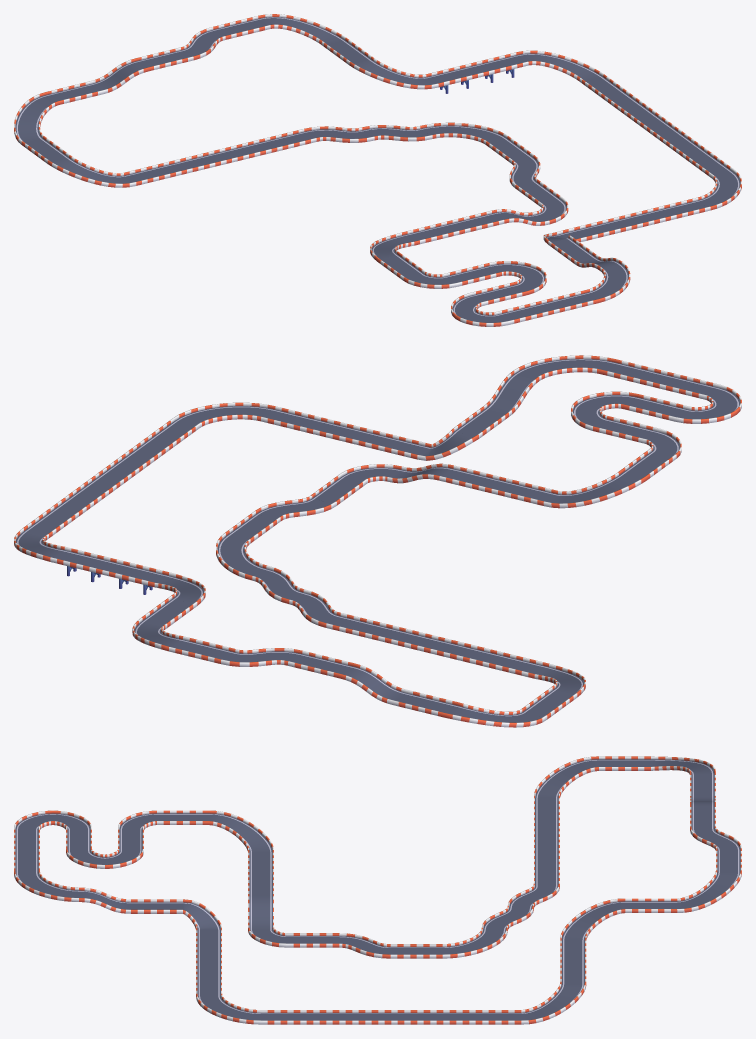
Rendered from track.glb.
3 renders of one model, top to bottom at view 1: azimuth 30°, elevation 25°; view 2: azimuth 150°, elevation 25°; view 3: azimuth 270°, elevation 25°, orthographic. The views are drawn at different scales.
Parts seen in each view (by area): view 1: track-road-wide-corner-large-ramp.004, track-road-wide-corner-large-ramp.001, track-road-wide-corner-large-ramp.002, track-road-wide-corner-large-ramp.003, track-road-wide-corner-large-ramp.005, track-road-wide-corner-large.002, track-road-wide-corner-large, track-road-wide-corner-large.001, track-road-wide-straight-hill-complete.002, track-road-wide-curve.002, track-road-wide-curve.003, track-road-wide-curve.001 (+38 smaller); view 2: track-road-wide-corner-large-ramp, track-road-wide-corner-large, track-road-wide-corner-large.001, track-road-wide-corner-large-ramp.004, track-road-wide-corner-large.002, track-road-wide-straight-hill-complete.001, track-road-wide-straight-hill-complete.002, track-road-wide-curve.001, track-road-wide-curve, track-road-wide-curve.002, track-road-wide-curve.003, track-road-wide-straight.023 (+40 smaller); view 3: track-road-wide-corner-large-ramp.002, track-road-wide-corner-large-ramp, track-road-wide-corner-large-ramp.005, track-road-wide-corner-large-ramp.003, track-road-wide-corner-large-ramp.001, track-road-wide-corner-large.002, track-road-wide-corner-large, track-road-wide-corner-large.001, track-road-wide-corner-large-ramp.004, track-road-wide-straight-hill-complete, track-road-wide-curve, track-road-wide-curve.001 (+39 smaller).
Part boxes in pixels (bbox=[...]): track-road-wide-corner-large-ramp.004: bbox=[14, 92, 58, 144]; track-road-wide-corner-large-ramp.001: bbox=[516, 50, 603, 82]; track-road-wide-corner-large-ramp.002: bbox=[349, 56, 438, 89]; track-road-wide-corner-large-ramp.003: bbox=[258, 14, 345, 46]; track-road-wide-corner-large-ramp.005: bbox=[47, 155, 136, 187]; track-road-wide-corner-large.002: bbox=[420, 122, 507, 144]; track-road-wide-corner-large: bbox=[586, 262, 630, 302]; track-road-wide-corner-large.001: bbox=[698, 169, 741, 210]; track-road-wide-straight-hill-complete.002: bbox=[91, 58, 148, 93]; track-road-wide-curve.002: bbox=[362, 125, 432, 141]; track-road-wide-curve.003: bbox=[304, 126, 374, 142]; track-road-wide-curve.001: bbox=[181, 27, 225, 60]; track-road-wide-corner-large-ramp: bbox=[543, 470, 646, 508]; track-road-wide-corner-large: bbox=[513, 355, 615, 380]; track-road-wide-corner-large.001: bbox=[174, 402, 275, 427]; track-road-wide-corner-large-ramp.004: bbox=[444, 702, 547, 727]; track-road-wide-corner-large.002: bbox=[216, 533, 266, 580]; track-road-wide-straight-hill-complete.001: bbox=[483, 371, 539, 416]; track-road-wide-straight-hill-complete.002: bbox=[340, 663, 406, 704]; track-road-wide-curve.001: bbox=[221, 648, 302, 666]; track-road-wide-curve: bbox=[255, 495, 336, 520]; track-road-wide-curve.002: bbox=[252, 565, 303, 603]; track-road-wide-curve.003: bbox=[289, 589, 340, 627]; track-road-wide-straight.023: bbox=[392, 690, 459, 717]; track-road-wide-corner-large-ramp.002: bbox=[560, 898, 625, 940]; track-road-wide-corner-large-ramp: bbox=[209, 810, 273, 852]; track-road-wide-corner-large-ramp.005: bbox=[534, 756, 598, 797]; track-road-wide-corner-large-ramp.003: bbox=[677, 870, 741, 912]; track-road-wide-corner-large-ramp.001: bbox=[521, 981, 586, 1024]; track-road-wide-corner-large.002: bbox=[442, 927, 507, 958]; track-road-wide-corner-large: bbox=[14, 871, 78, 901]; track-road-wide-corner-large.001: bbox=[196, 993, 261, 1024]; track-road-wide-corner-large-ramp.004: bbox=[651, 756, 715, 774]; track-road-wide-straight-hill-complete: bbox=[248, 894, 273, 929]; track-road-wide-curve: bbox=[339, 933, 390, 958]; track-road-wide-curve.001: bbox=[690, 826, 741, 850].
Bounding box in the file's own units: 45.98 × 3.3 × 55.95.
19 materials, 19 textured.
